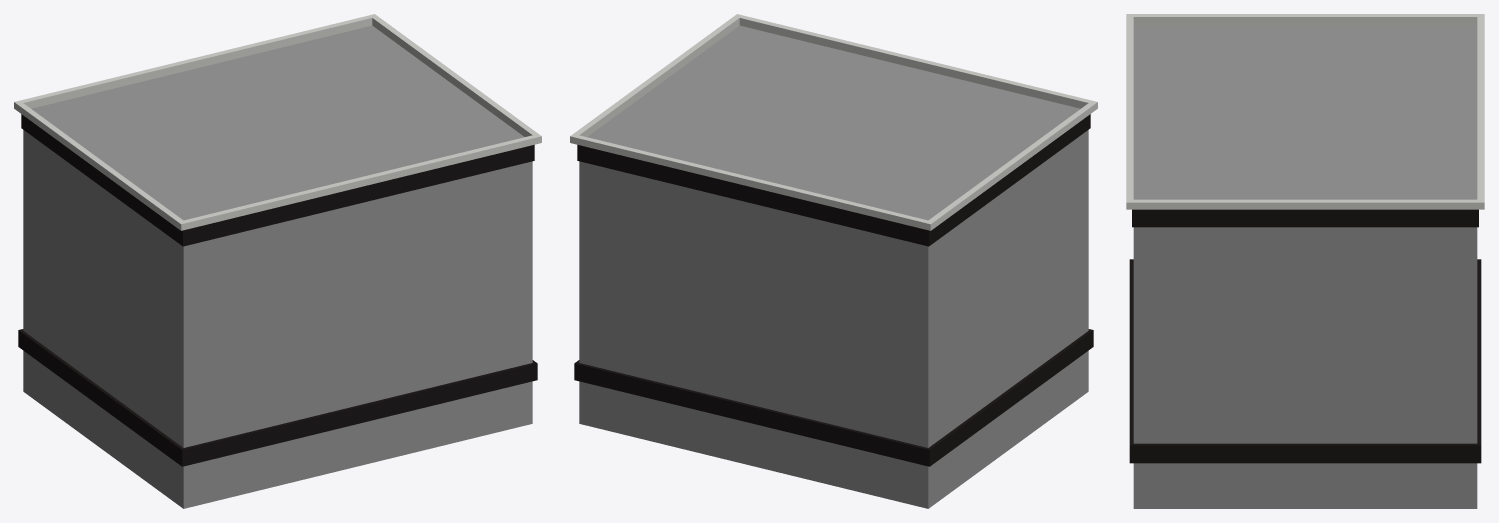
The model's file is SM_bld_block_02.fbx.
3 renders of one model, left to right at view 1: azimuth 30°, elevation 25°; view 2: azimuth 150°, elevation 25°; view 3: azimuth 270°, elevation 25°, orthographic. The views are drawn at different scales.
Visible parts, largest first — view 1: bld_block_02; view 2: bld_block_02; view 3: bld_block_02.
Boxes of the visible parts, bbox=[...] form: bld_block_02: bbox=[14, 14, 541, 508]; bld_block_02: bbox=[570, 14, 1097, 508]; bld_block_02: bbox=[1126, 14, 1484, 508].
Bounding box in the file's own units: 1023 × 782 × 821.
